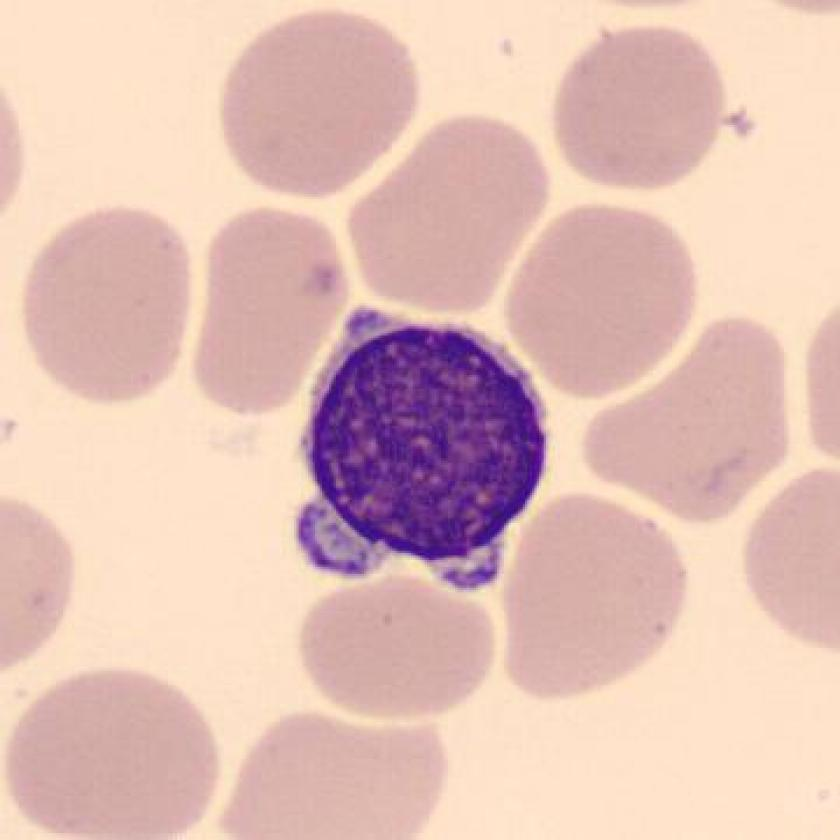lymphocyte: (279, 300, 575, 608)
